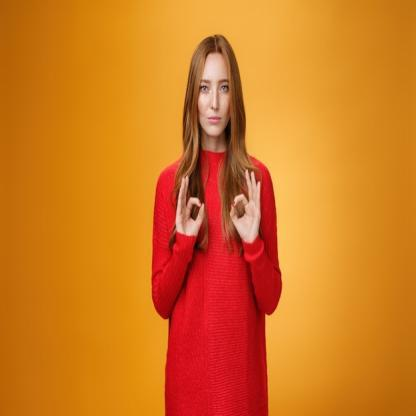ok: (227, 166, 264, 246), (172, 173, 208, 242)
